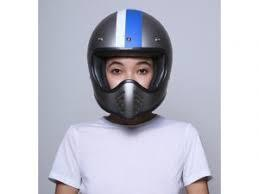helmet: (86, 8, 174, 121)
